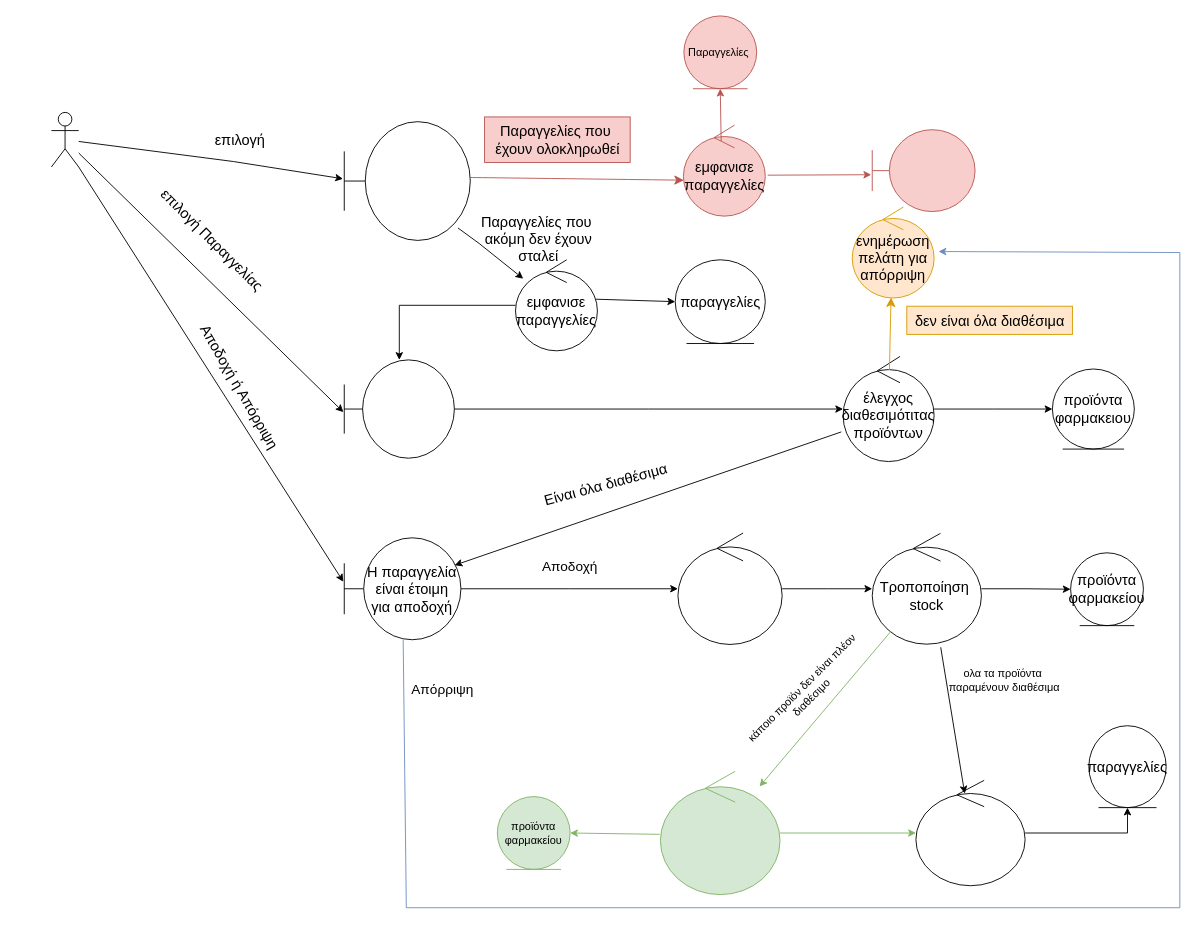
This 1203x925 diagram has some shape labels left out. Each missing label, with the box of its shape:
ενημέρωση πελάτη αποδοχη παραγγελίας: (677, 532, 782, 644)
μετάβαση παραγγελίας σε λίστα finished: (915, 779, 1025, 886)
Μετάβαση των συγκεκριμένων προϊόντων στη λίστα out-of-stock: (659, 770, 780, 895)
παραγγελίες που έχουν ολοκληρωθεί ή που ακόμη δεν έχουν σταλεί: (343, 121, 470, 240)
παραγγελίες που ακόμα δεν έχουν σταλεί: (343, 359, 454, 458)
Πραγγελίες που έχουν ολοκληρωθή: (871, 129, 975, 212)
φαρμακοποιός: (51, 111, 79, 167)
